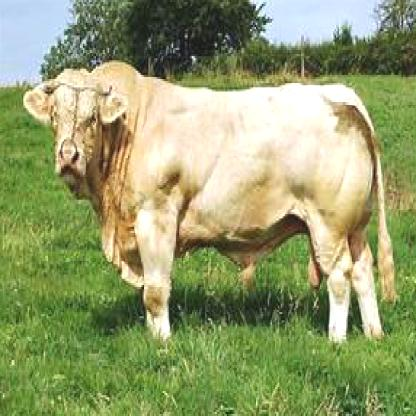cow: (22, 60, 396, 341)
